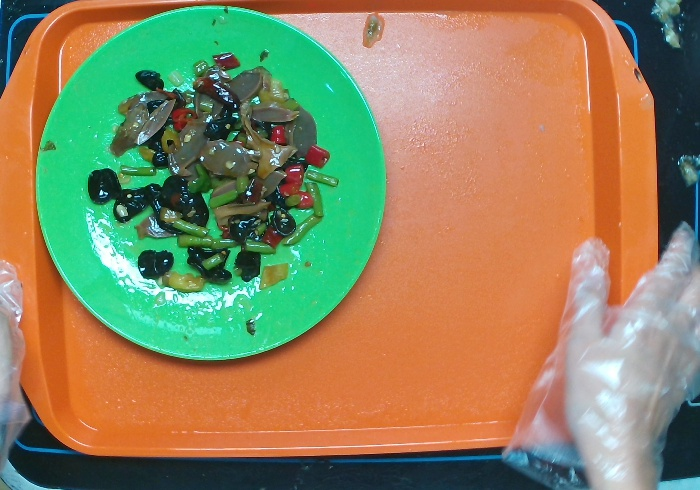HZYJPL-Lv_Se_Yuan_Pan: (27, 1, 393, 364)
